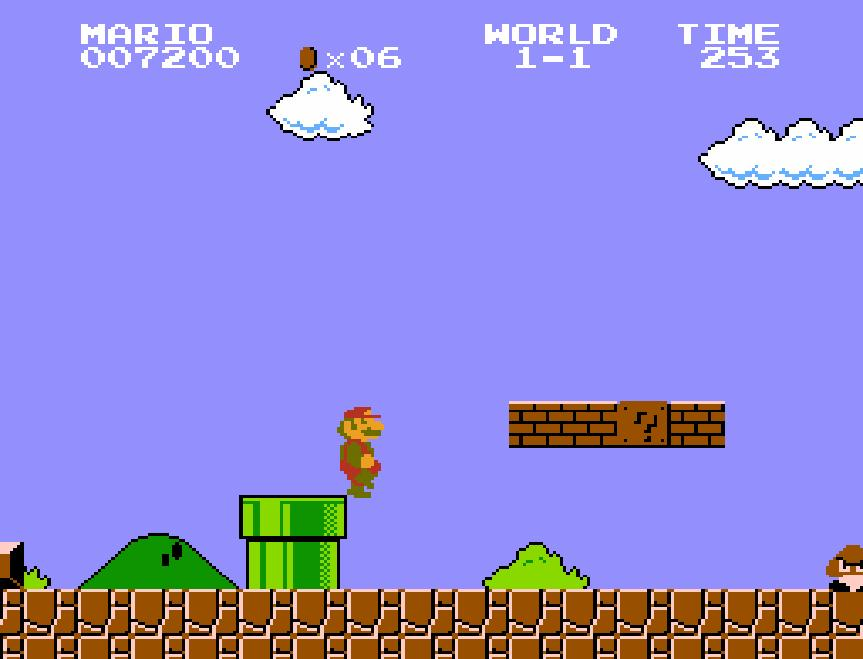big_mario: (332, 402, 390, 500)
